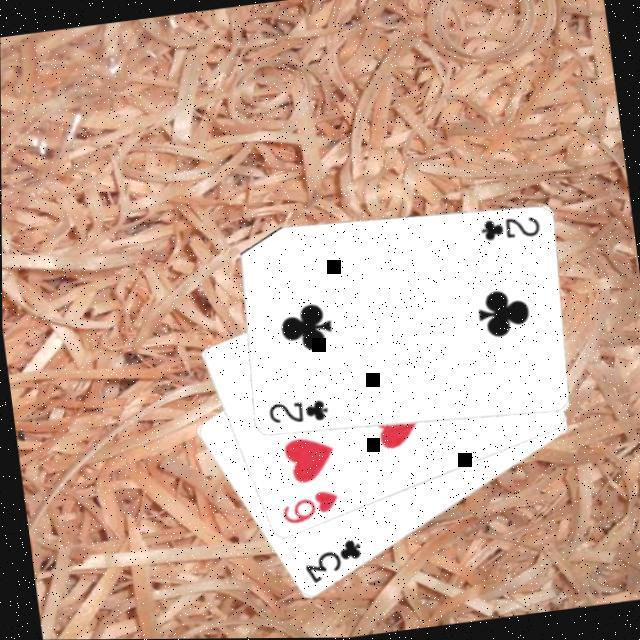2C: (476, 210, 543, 246), (264, 394, 331, 429)
3C: (298, 534, 367, 587)
6H: (276, 484, 342, 528)
